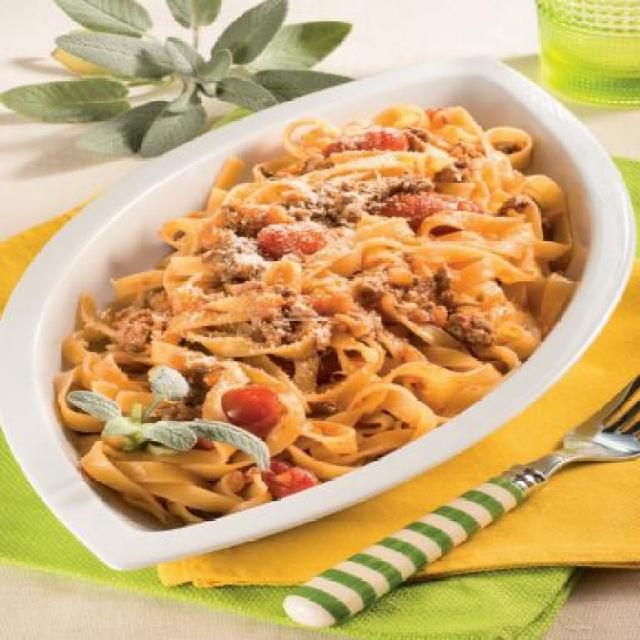Pasta al ragu: (11, 62, 586, 556)
